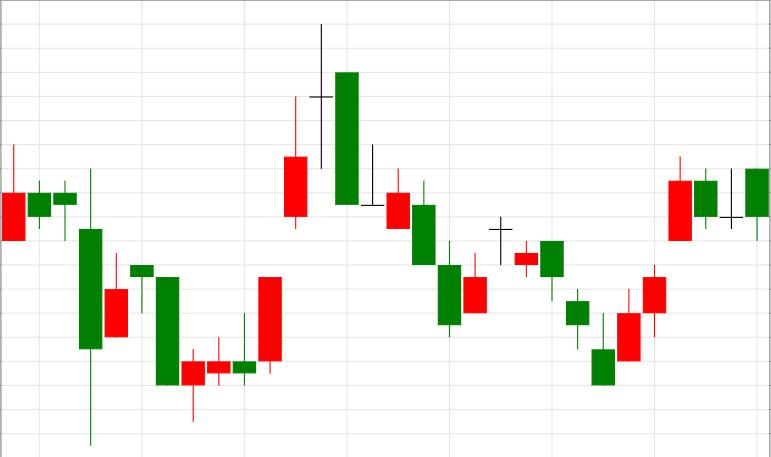three_white_soldiers_rise: (541, 156, 692, 386)
